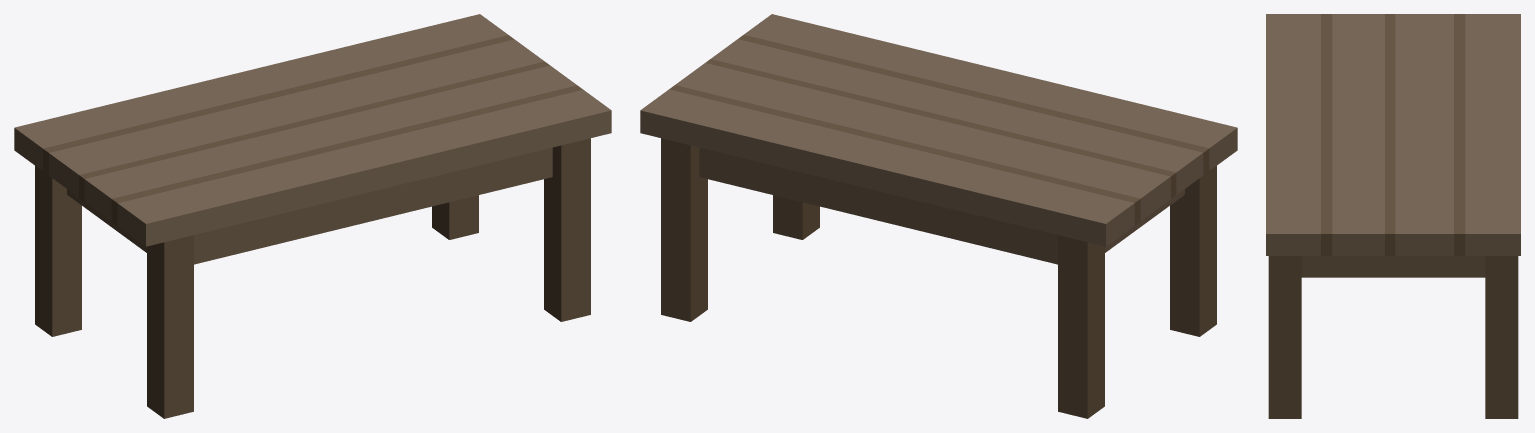
The model's file is SD_Prop_Table_03.fbx.
3 renders of one model, left to right at view 1: azimuth 30°, elevation 25°; view 2: azimuth 150°, elevation 25°; view 3: azimuth 270°, elevation 25°, orthographic. The views are drawn at different scales.
Parts seen in each view (by area): view 1: SD_Prop_Table_03; view 2: SD_Prop_Table_03; view 3: SD_Prop_Table_03.
Part boxes in pixels (box(x1,y1,x2,y2)): SD_Prop_Table_03: box(14, 14, 611, 418); SD_Prop_Table_03: box(640, 14, 1237, 418); SD_Prop_Table_03: box(1266, 14, 1520, 418).
Size of the model in its own units: 3.93 by 1.62 by 1.93.
